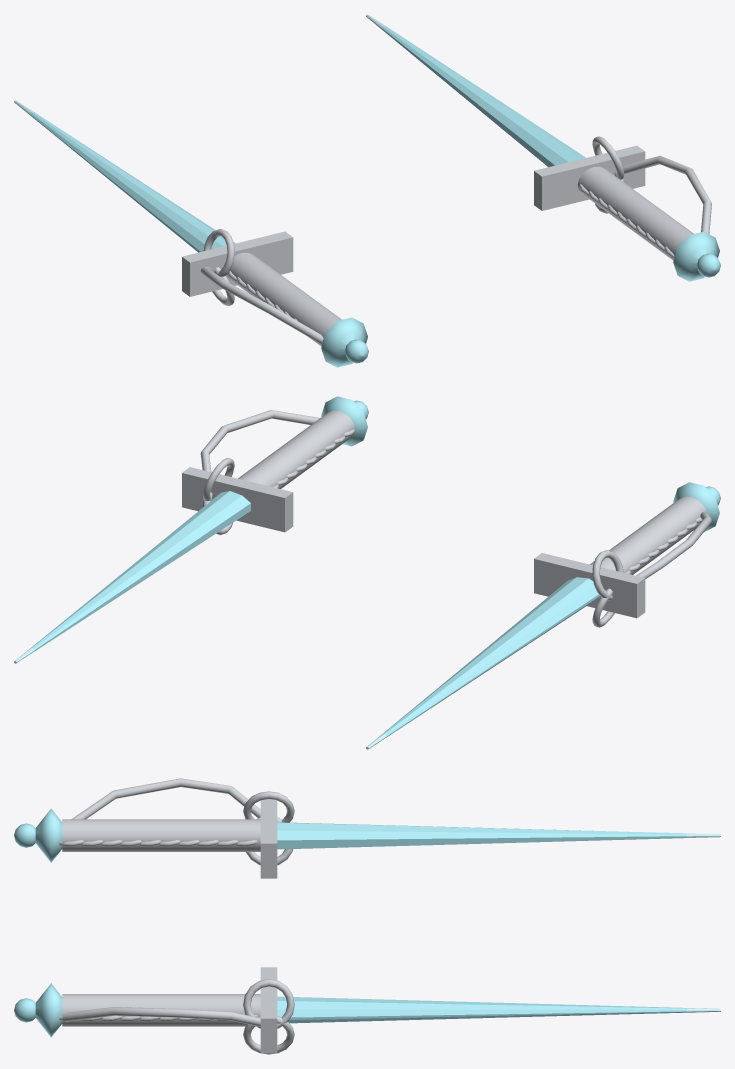
Rendered from art_phantom_stiletto.fbx.
3 views of the same model, one above another, from view 1: azimuth 30°, elevation 25°; view 2: azimuth 150°, elevation 25°; view 3: azimuth 270°, elevation 25° (orthographic).
Parts seen in each view (by area): view 1: CrossguardL, Crossguard, Blade, Handle, BladeL, HandleL, PommelL, Pommel; view 2: Crossguard, CrossguardL, BladeL, Blade, Handle, HandleL, Pommel, PommelL; view 3: BladeL, Blade, HandleL, Handle, Crossguard, CrossguardL, PommelL, Pommel.
Boxes of the visible parts, x1=… form: CrossguardL: x1=182, y1=228, x2=323, y2=344; Crossguard: x1=534, y1=136, x2=711, y2=233; Blade: x1=381, y1=26, x2=586, y2=166; Handle: x1=577, y1=166, x2=693, y2=260; BladeL: x1=29, y1=112, x2=235, y2=252; HandleL: x1=226, y1=252, x2=341, y2=346; PommelL: x1=321, y1=317, x2=368, y2=367; Pommel: x1=673, y1=231, x2=720, y2=281; Crossguard: x1=182, y1=410, x2=319, y2=535; CrossguardL: x1=534, y1=511, x2=711, y2=627; BladeL: x1=383, y1=577, x2=600, y2=737; Blade: x1=31, y1=491, x2=250, y2=650; Handle: x1=238, y1=410, x2=354, y2=488; HandleL: x1=590, y1=496, x2=706, y2=574; Pommel: x1=321, y1=396, x2=368, y2=446; PommelL: x1=673, y1=482, x2=720, y2=531; BladeL: x1=277, y1=822, x2=686, y2=849; Blade: x1=277, y1=996, x2=686, y2=1023; HandleL: x1=59, y1=819, x2=260, y2=851; Handle: x1=59, y1=994, x2=260, y2=1026; Crossguard: x1=62, y1=967, x2=294, y2=1054; CrossguardL: x1=71, y1=778, x2=294, y2=878; PommelL: x1=14, y1=808, x2=62, y2=862; Pommel: x1=14, y1=983, x2=62, y2=1037.
Bounding box in the file's own units: 201 × 29.88 × 256.
